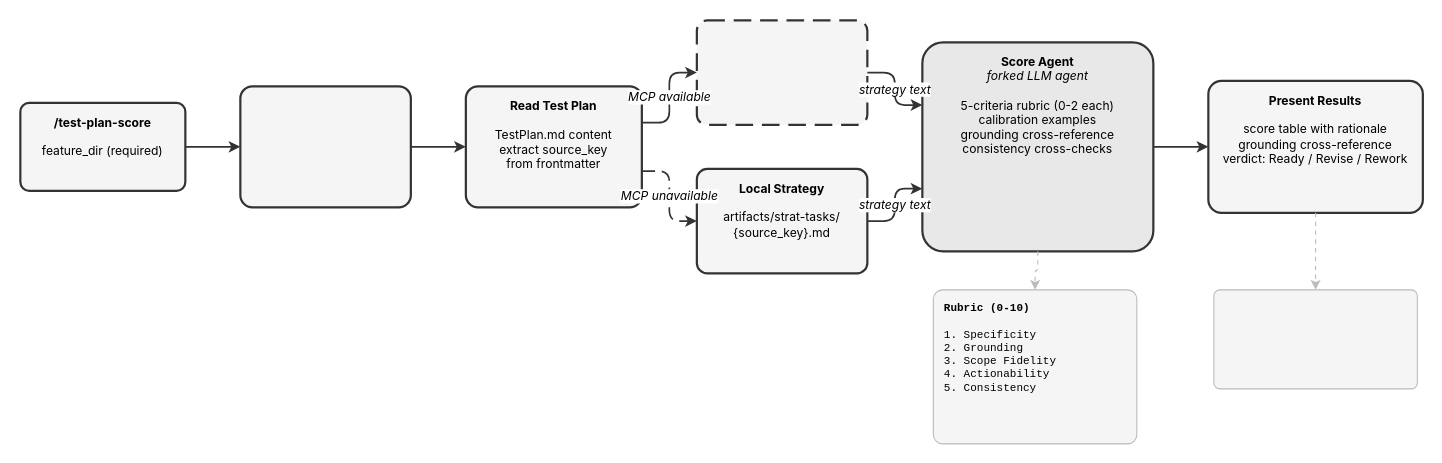
The diagram is 1442 pixels wide and 463 high, and some of its shapes have lost their labels. Here are the shapes that lost their labels. From the top down, the box of each, then its label:
(695, 19, 868, 125): Fetch from Jira MCP getJiraIssue source_key lookup
(239, 85, 411, 208): Install Deps uv sync --extra dev test-plan package abort if fails
(1213, 289, 1417, 389): >= 8, no zeros: Ready = 7, no zeros: Revise < 7 or any zero: Rework
